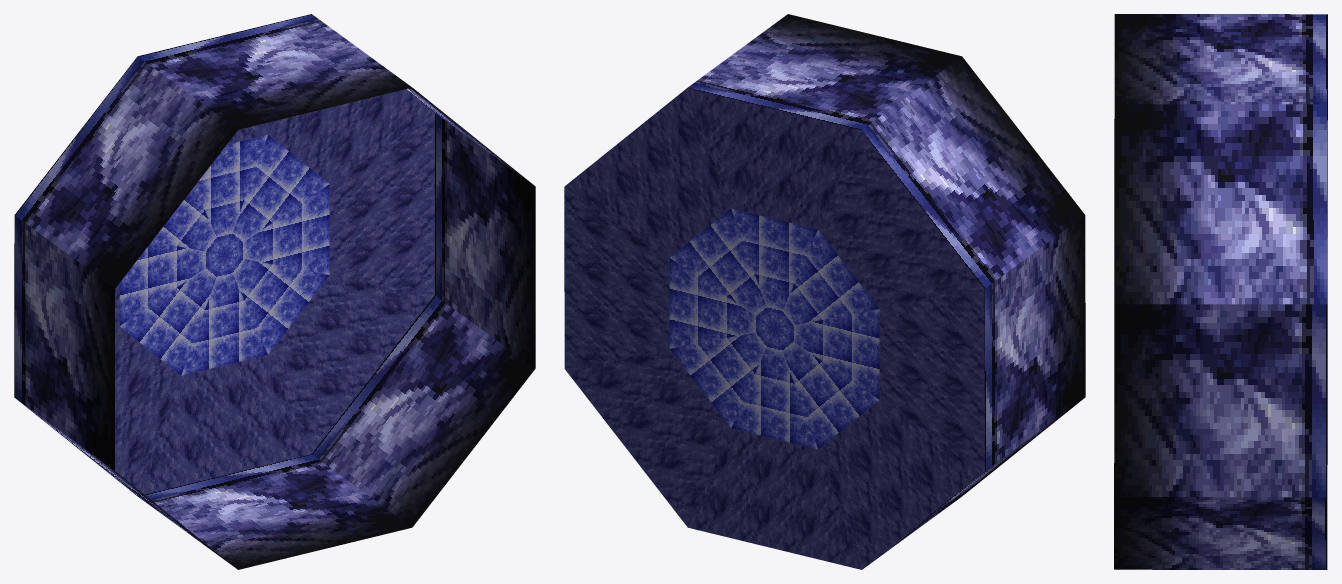
The model's file is Bowser Stadium 1.fbx.
The picture shows the model from 3 angles, left to right: view 1: azimuth 30°, elevation 25°; view 2: azimuth 150°, elevation 25°; view 3: azimuth 270°, elevation 25°; orthographic projection. The views are drawn at different scales.
Visible parts, largest first — view 1: node_id7 (×3); view 2: node_id7 (×3); view 3: node_id7.
Part boxes in pixels (left/top/right/bottom): node_id7 (×3): left=14, top=14, right=535, bottom=569; node_id7 (×3): left=564, top=14, right=1085, bottom=569; node_id7: left=1114, top=14, right=1327, bottom=569.
Size of the model in its own units: 0.5118 by 0.512 by 0.2128.
3 materials, 3 textured.
